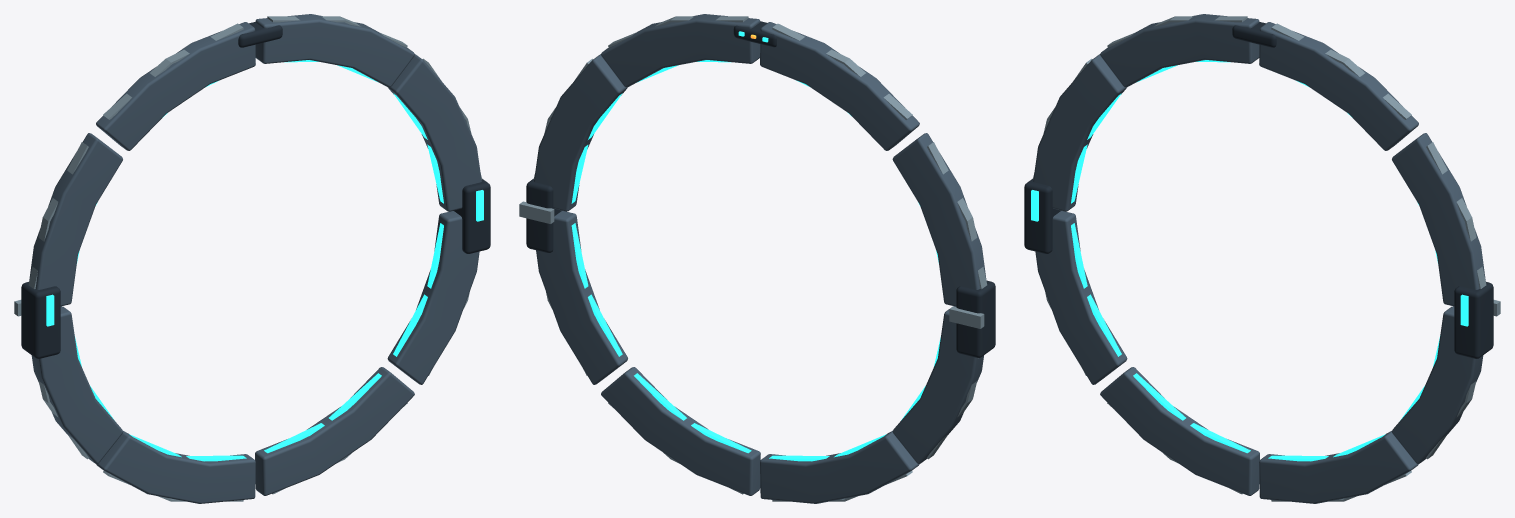
The model's file is VOIDLINE_TransitGate.glb.
3 views of the same model, side by side, from view 1: azimuth 30°, elevation 25°; view 2: azimuth 150°, elevation 25°; view 3: azimuth 330°, elevation 25° (orthographic).
Visible parts, largest first — view 1: VLG_Ceramic_titanium, VLG_Graphite, VLG_Transit_cyan, VLG_Machined_alloy; view 2: VLG_Ceramic_titanium, VLG_Graphite, VLG_Machined_alloy, VLG_Transit_cyan; view 3: VLG_Ceramic_titanium, VLG_Graphite, VLG_Transit_cyan, VLG_Machined_alloy.
Part boxes in pixels (x1,y1,x2,y2): VLG_Ceramic_titanium: (29, 14, 481, 503); VLG_Graphite: (21, 22, 490, 358); VLG_Transit_cyan: (46, 60, 483, 461); VLG_Machined_alloy: (14, 16, 482, 501); VLG_Ceramic_titanium: (534, 14, 986, 503); VLG_Graphite: (526, 21, 995, 357); VLG_Machined_alloy: (519, 16, 987, 501); VLG_Transit_cyan: (571, 31, 940, 461); VLG_Ceramic_titanium: (1033, 14, 1485, 503); VLG_Graphite: (1024, 22, 1493, 358); VLG_Transit_cyan: (1031, 60, 1468, 461); VLG_Machined_alloy: (1032, 16, 1500, 501).
Bounding box in the file's own units: 8.54 × 8.39 × 0.67.
